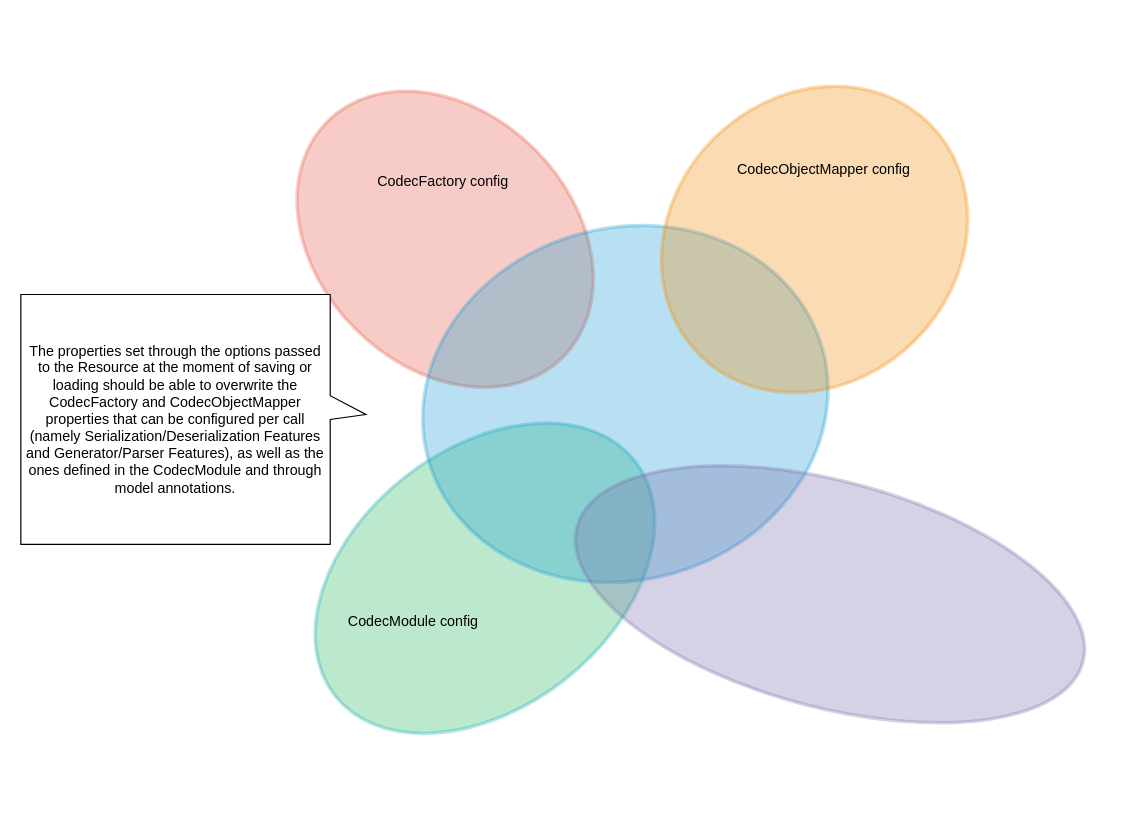
Image size: 1135x820. Some labels were removed from this diagram. Here are the shapes that lost their labels. From the top down, the centre of each, then its label:
(624,403): Resource#load(options) Resource#save(options)
(829,594): CodecAnnotations (taken into account via CodecModelInfo service)
